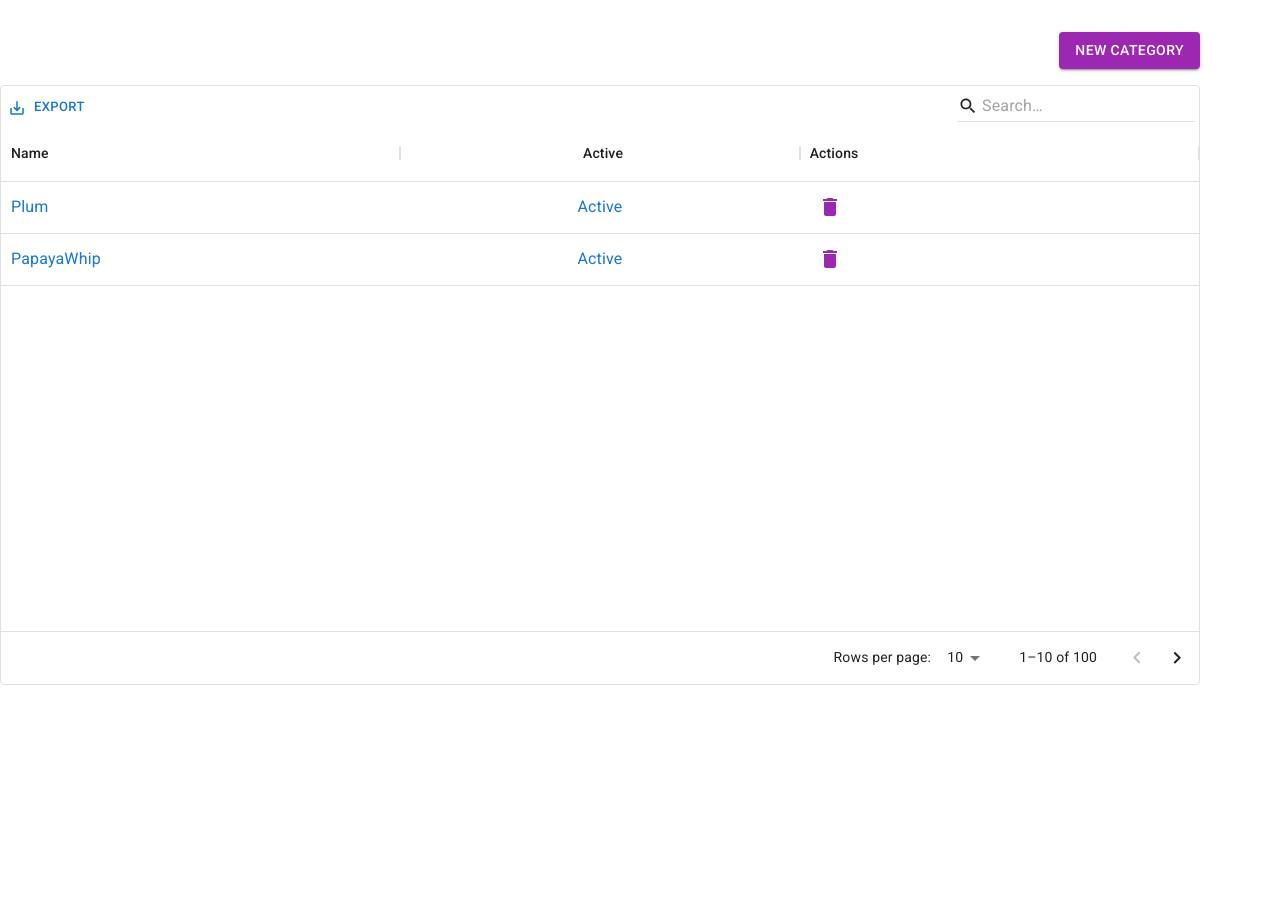
Test: ListCategory › should handle delete category error
This screenshot has width=1280, height=900.
Check: the text "Plum" is shown, box [11,195,48,219]
Step 1. Click the button with test id "delete-button" in the row of "Plum" → (830, 207), box [810,187,850,227]
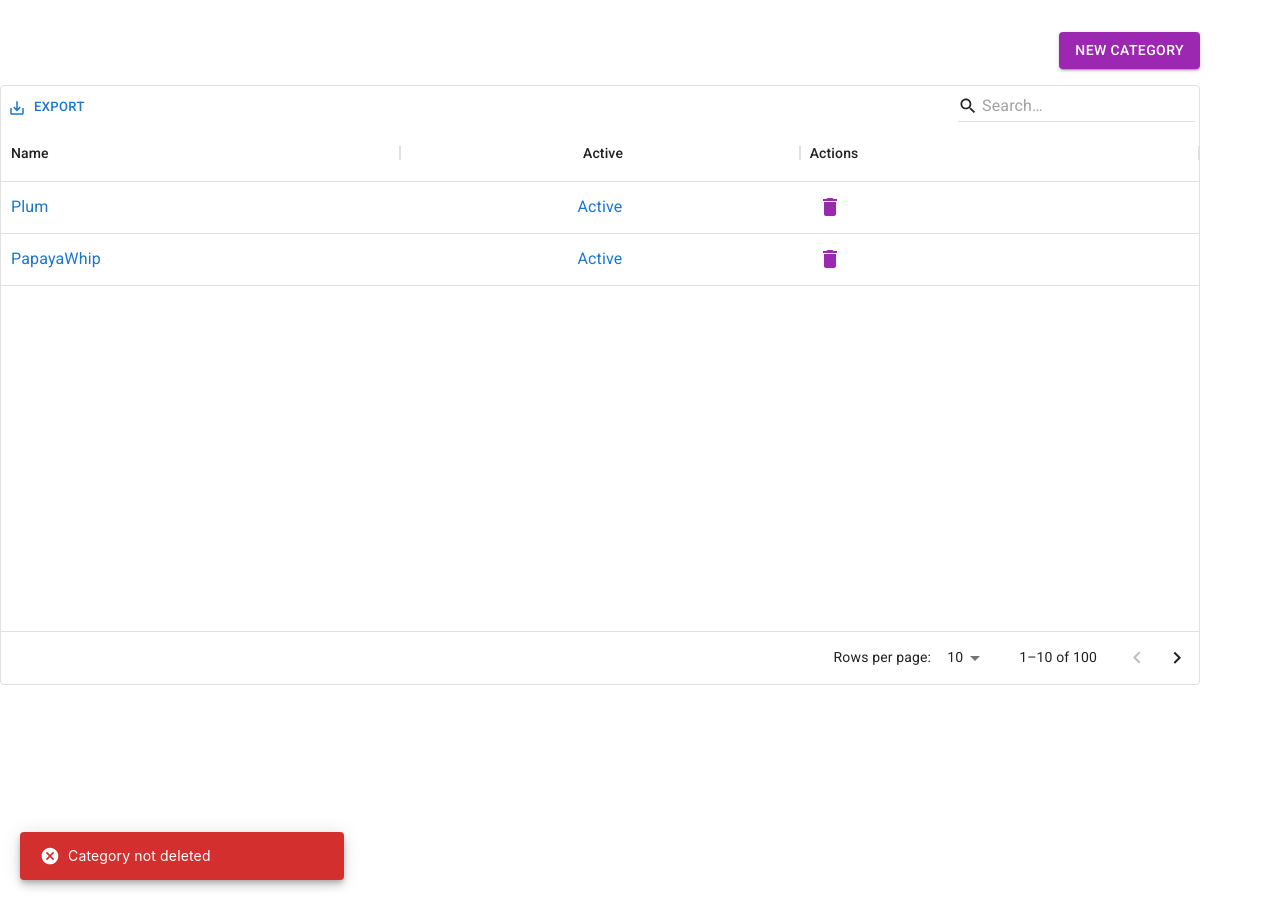
Check: the text "Category not deleted" is shown, box [40,846,211,866]
